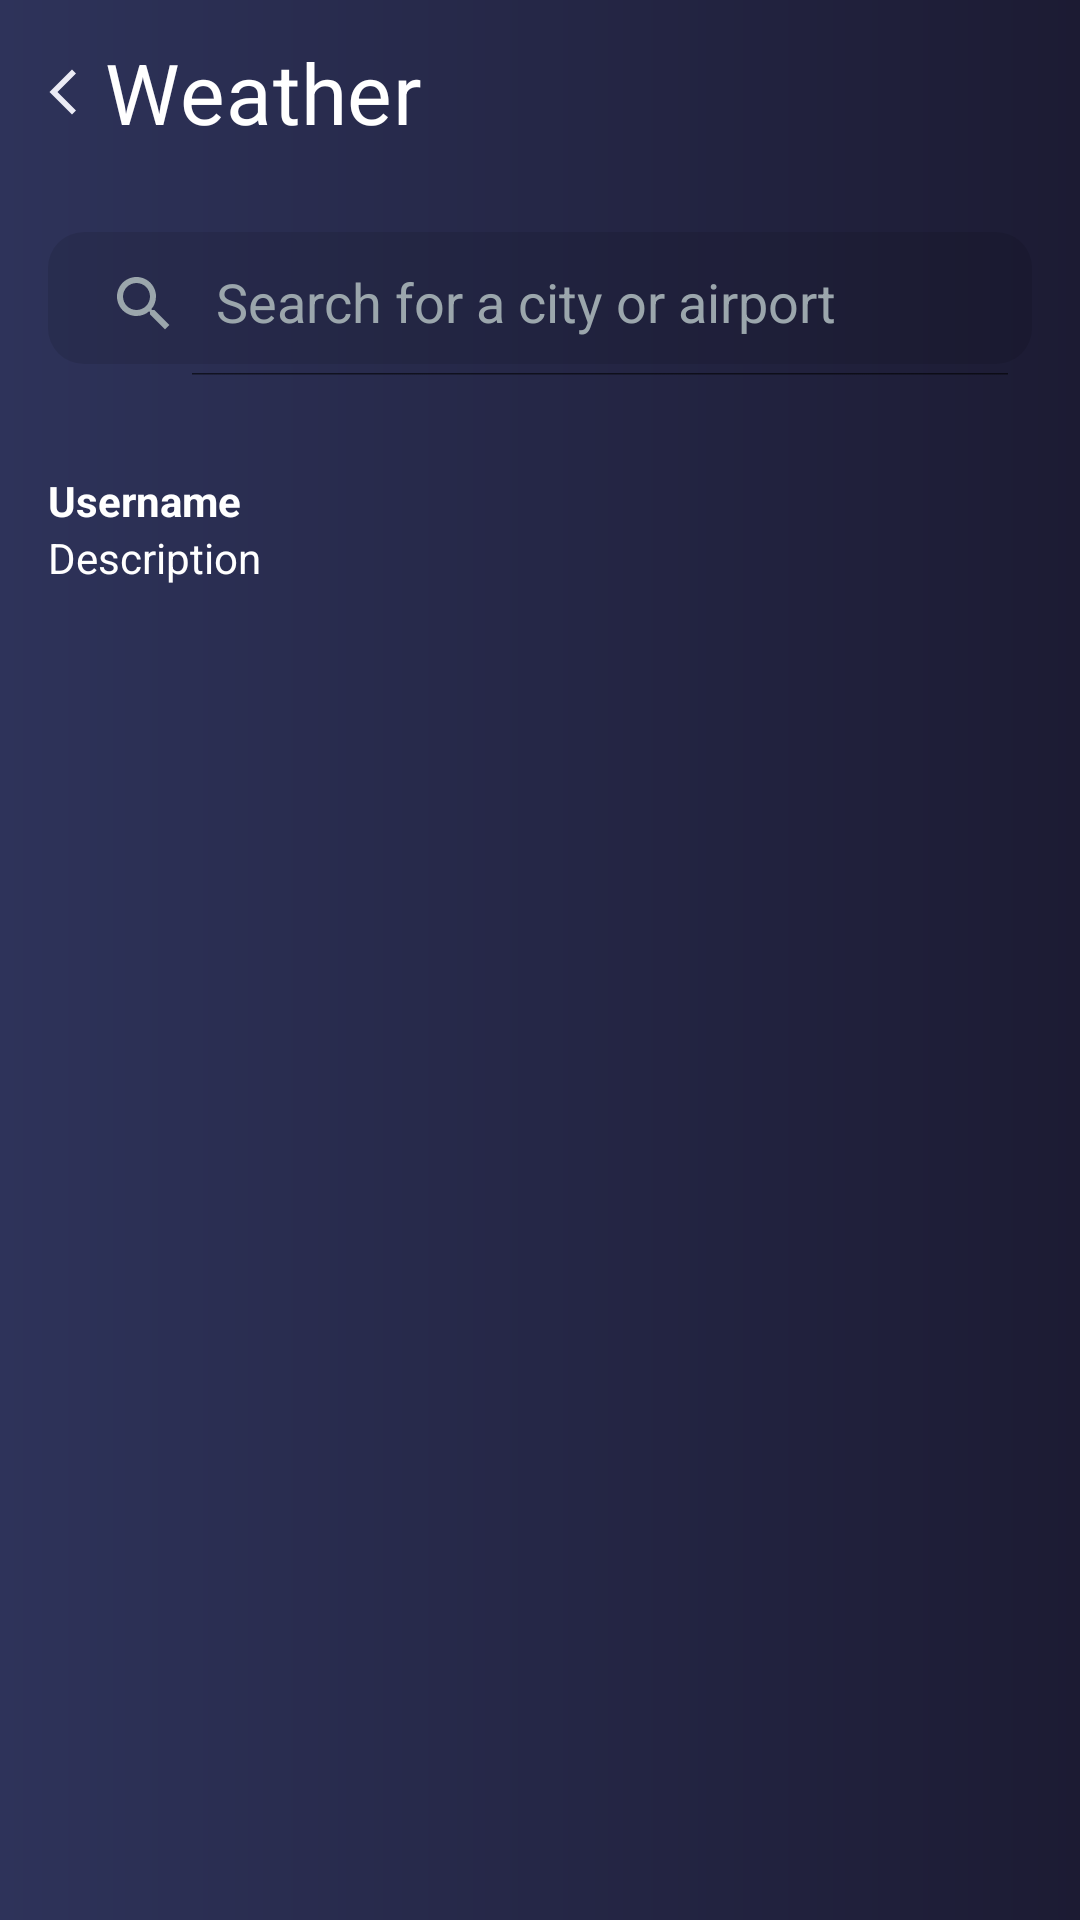

Named icons in this screenshot (1080x1920) and their bounding boxes, bbox=[x1, y1, x2, y2]:
back: bbox=[50, 69, 76, 115]
